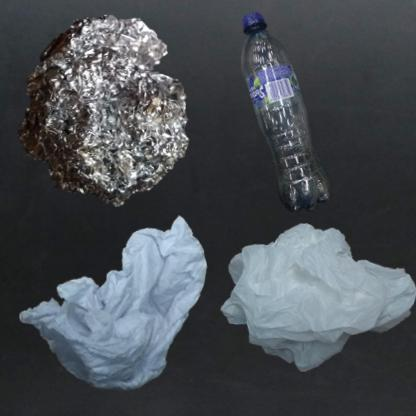aluminio: (10, 10, 193, 213)
bolsa: (213, 213, 416, 392)
botella: (213, 10, 367, 233)
papel: (10, 213, 223, 405)
